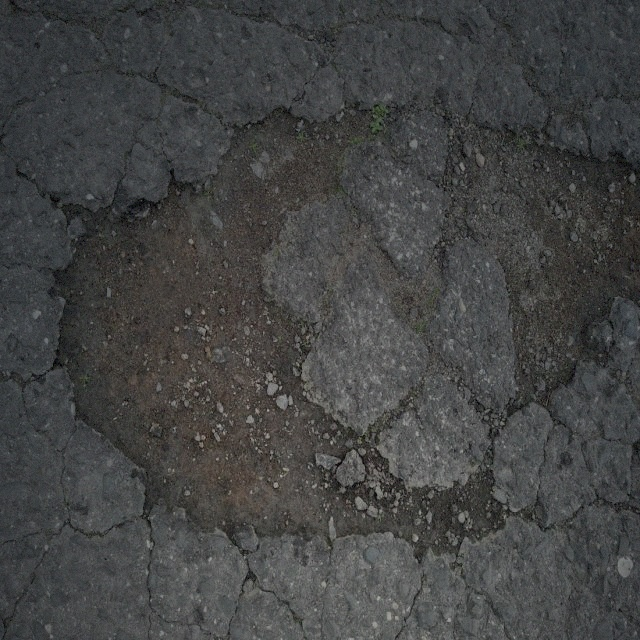pothole: (47, 72, 601, 571)
